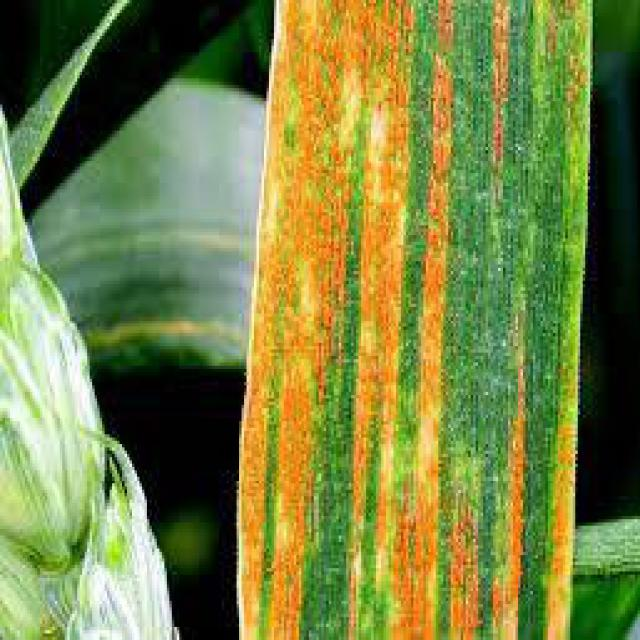wheat-yellowrust: (234, 0, 595, 640)
